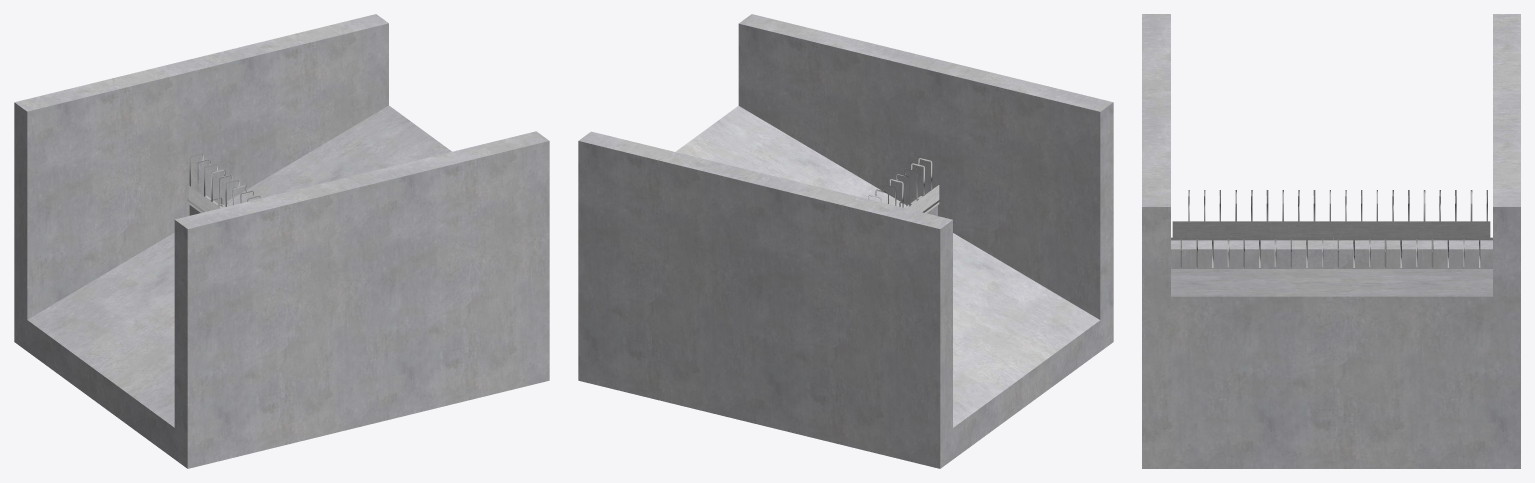
Rendered from grapes.glb.
3 renders of one model, left to right at view 1: azimuth 30°, elevation 25°; view 2: azimuth 150°, elevation 25°; view 3: azimuth 270°, elevation 25°, orthographic. The views are drawn at different scales.
Parts seen in each view (by area): view 1: Calaix_prefabricat1___Calaix_prefabricat_1116963__3D_1, Familia1___Familia1_1118922__3D_1; view 2: Calaix_prefabricat1___Calaix_prefabricat_1116963__3D_1, Familia1___Familia1_1118922__3D_1; view 3: Calaix_prefabricat1___Calaix_prefabricat_1116963__3D_1, Familia1___Familia1_1118922__3D_1.
Boxes of the visible parts, bbox=[...] form: Calaix_prefabricat1___Calaix_prefabricat_1116963__3D_1: bbox=[14, 14, 549, 468]; Familia1___Familia1_1118922__3D_1: bbox=[187, 153, 260, 212]; Calaix_prefabricat1___Calaix_prefabricat_1116963__3D_1: bbox=[578, 14, 1113, 468]; Familia1___Familia1_1118922__3D_1: bbox=[868, 158, 940, 213]; Calaix_prefabricat1___Calaix_prefabricat_1116963__3D_1: bbox=[1142, 14, 1520, 468]; Familia1___Familia1_1118922__3D_1: bbox=[1171, 190, 1492, 267].
Bounding box in the file's own units: 3 × 1.9 × 2.49.
3 materials, 2 textured.
